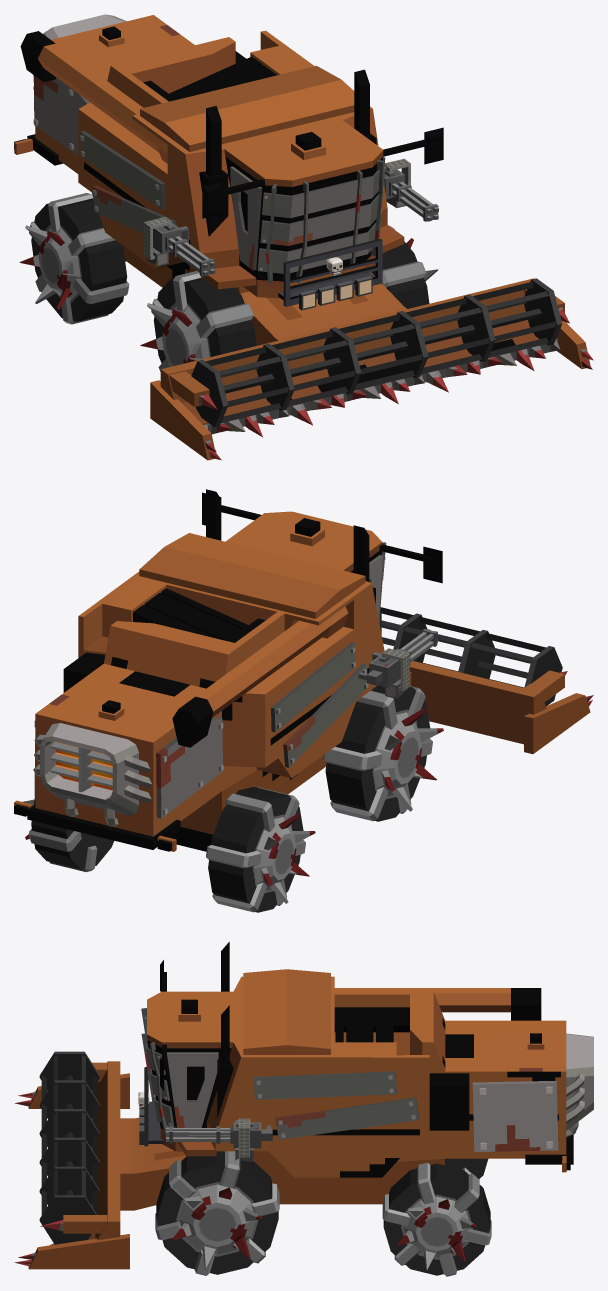
The model's file is 10_SA_Veh_Harvester.glb.
3 renders of one model, top to bottom at view 1: azimuth 30°, elevation 25°; view 2: azimuth 150°, elevation 25°; view 3: azimuth 270°, elevation 25°, orthographic. The views are drawn at different scales.
Visible parts, largest first — view 1: Body, armor_5, armor_2_part_A 10, Wheel_A_3gr (×3), armor_1, Wheel_BR, armor_4_part_C_R 4, Wheel_A_1gr (×2), Wheel_FR, armor_2_part_B 9, armor_4_part_B_R 8, gun_R (+6 smaller); view 2: Body, Nitro, Wheel_A_3gr (×3), armor_5, Wheel_BR, Wheel_FR, armor_4_part_C_R 4, Wheel_A_1gr (×2), armor_4_part_B_R 8, gun_R, Wheel_A_2gr (×2), Wheel_BL; view 3: Body, armor_5, armor_4_part_C_L 4, Wheel_A_1gr (×2), armor_4_part_B_L 8, Wheel_FL, Wheel_A_3gr (×2), Wheel_BL, armor_3_B_L, Nitro, gun_L, Wheel_A_2gr (×2) (+4 smaller).
Boxes of the visible parts, box(x1,y1,x2,y2) form: Body: box(14, 15, 590, 460); armor_5: box(191, 278, 562, 427); armor_2_part_A 10: box(257, 160, 385, 283); Wheel_A_3gr (×3): box(29, 193, 426, 371); armor_1: box(198, 307, 593, 460); Wheel_BR: box(31, 198, 127, 321); armor_4_part_C_R 4: box(80, 131, 176, 233); Wheel_A_1gr (×2): box(38, 227, 209, 366); Wheel_FR: box(153, 277, 256, 363); armor_2_part_B 9: box(278, 238, 382, 306); armor_4_part_B_R 8: box(33, 75, 89, 155); gun_R: box(143, 217, 215, 276); Body: box(14, 489, 590, 851); Nitro: box(33, 723, 151, 826); Wheel_A_3gr (×3): box(29, 686, 432, 912); armor_5: box(380, 607, 562, 706); Wheel_BR: box(208, 787, 303, 912); Wheel_FR: box(325, 685, 430, 821); armor_4_part_C_R 4: box(271, 642, 368, 767); Wheel_A_1gr (×2): box(254, 712, 421, 890); armor_4_part_B_R 8: box(156, 717, 223, 818); gun_R: box(358, 629, 437, 698); Wheel_A_2gr (×2): box(261, 708, 443, 903); Wheel_BL: box(31, 796, 113, 869); Body: box(28, 942, 573, 1269); armor_5: box(39, 1051, 99, 1244); armor_4_part_C_L 4: box(253, 1071, 419, 1139); Wheel_A_1gr (×2): box(179, 1184, 470, 1257); armor_4_part_B_L 8: box(472, 1080, 558, 1151); Wheel_FL: box(156, 1151, 278, 1274); Wheel_A_3gr (×2): box(155, 1151, 491, 1276); Wheel_BL: box(383, 1163, 490, 1275); armor_3_B_L: box(167, 1052, 218, 1127); Nitro: box(566, 1033, 593, 1136); gun_L: box(166, 1118, 272, 1161); Wheel_A_2gr (×2): box(172, 1187, 476, 1270).
Size of what is drawn, in the model's own units: 8.06 by 5.85 by 12.02.
1 material, 1 textured.
